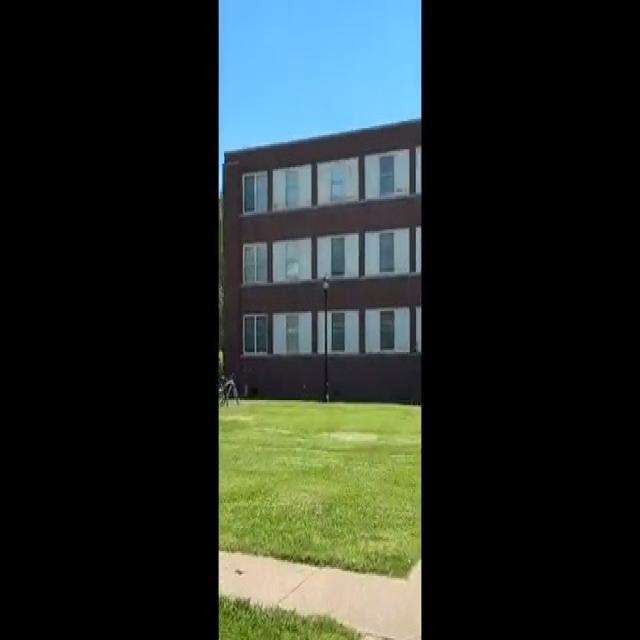drone: (300, 378, 311, 396)
